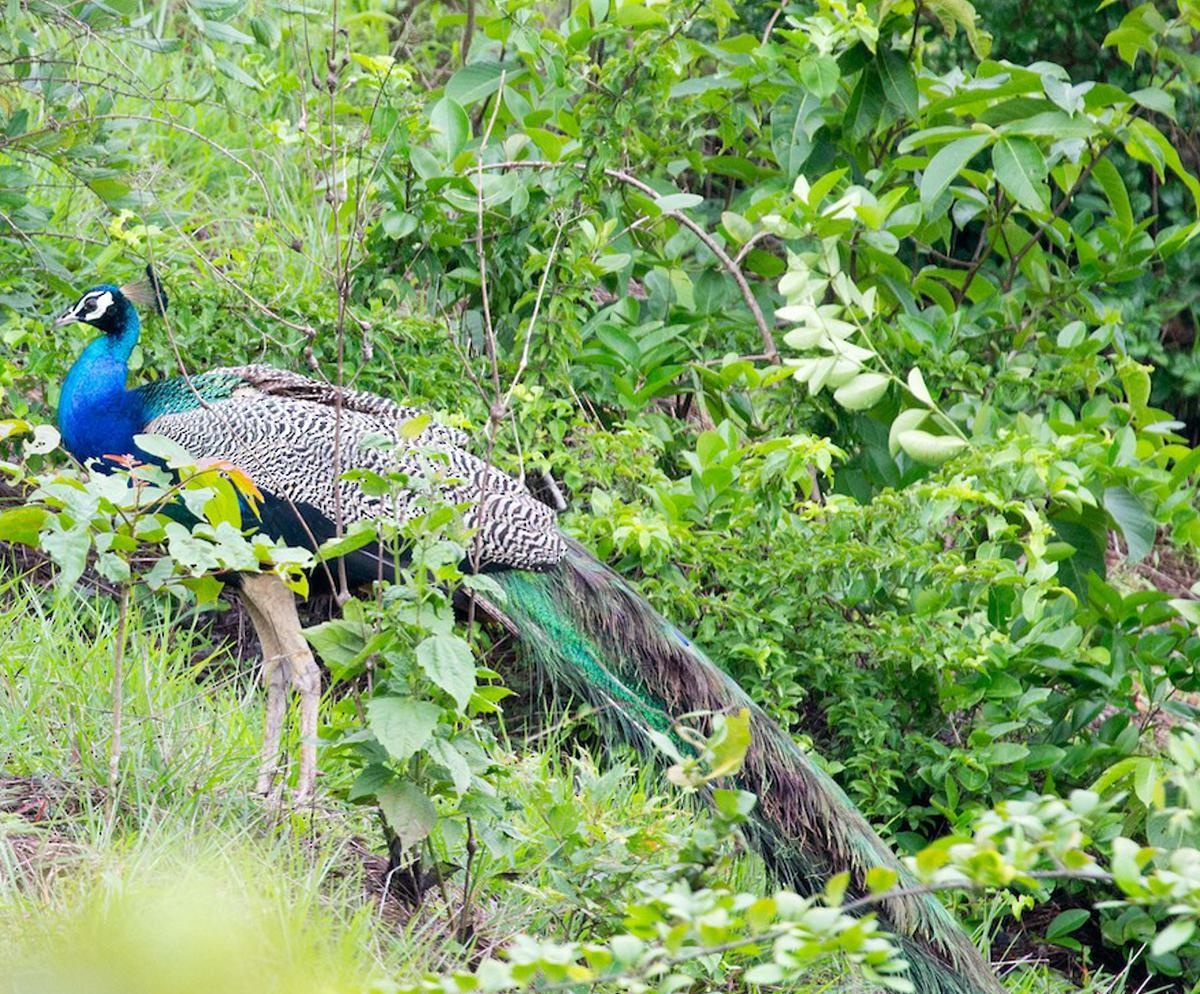peacock: (48, 247, 833, 909)
